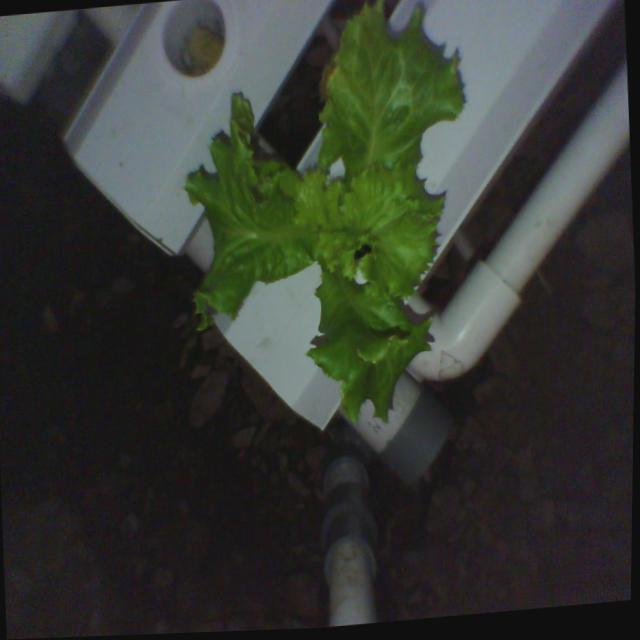FN: (166, 0, 491, 455)
